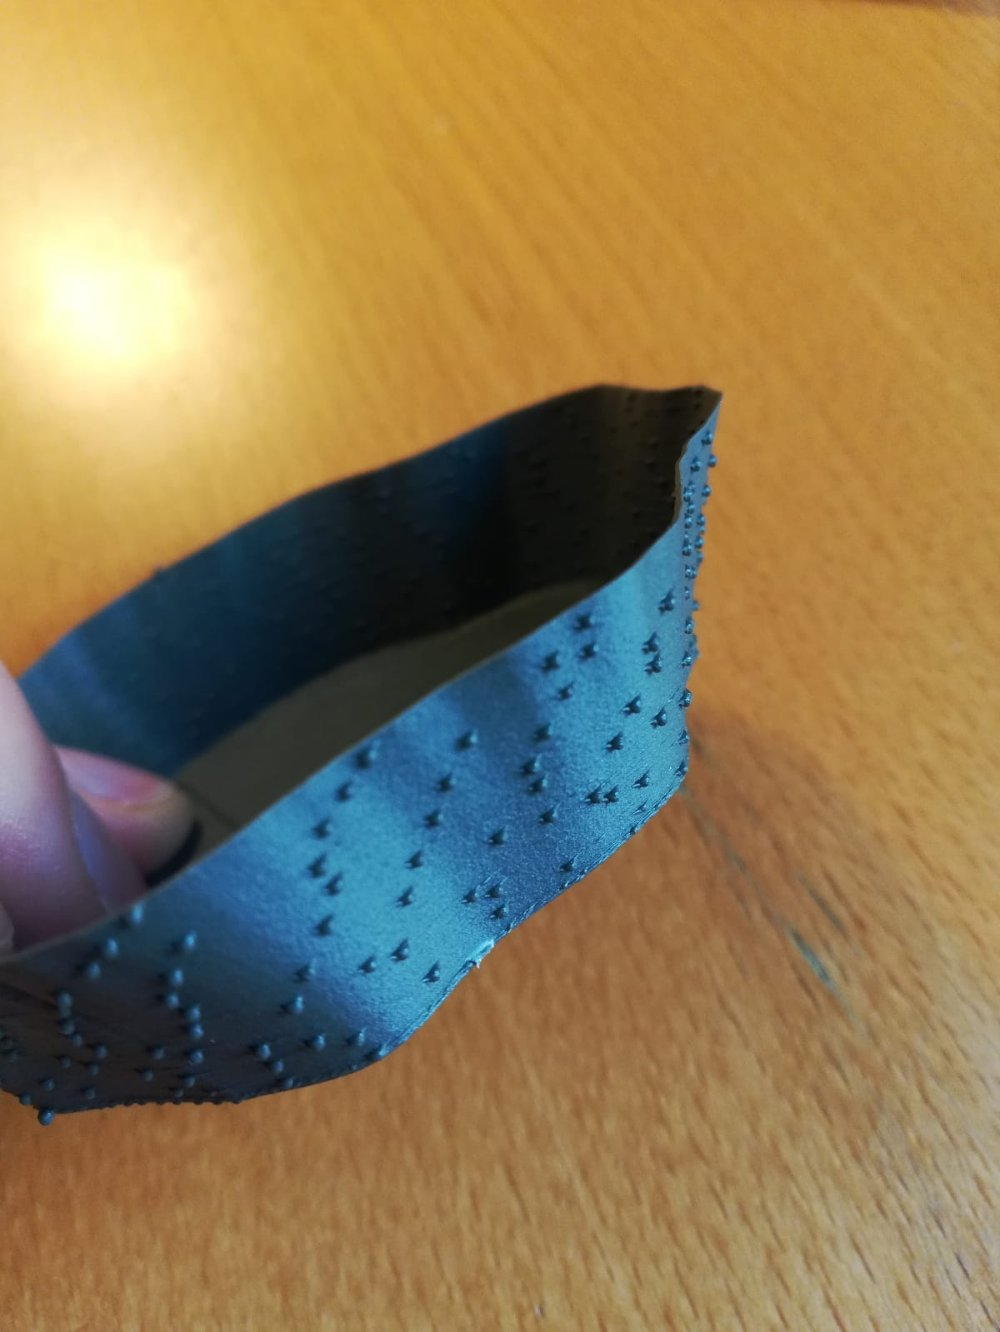blob: (125, 927, 366, 1074), (295, 817, 447, 994), (440, 700, 587, 881), (561, 619, 683, 812), (32, 986, 127, 1092), (686, 440, 723, 644)
